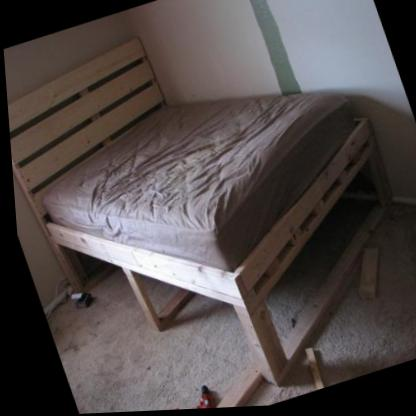Bed: (6, 38, 388, 377)
